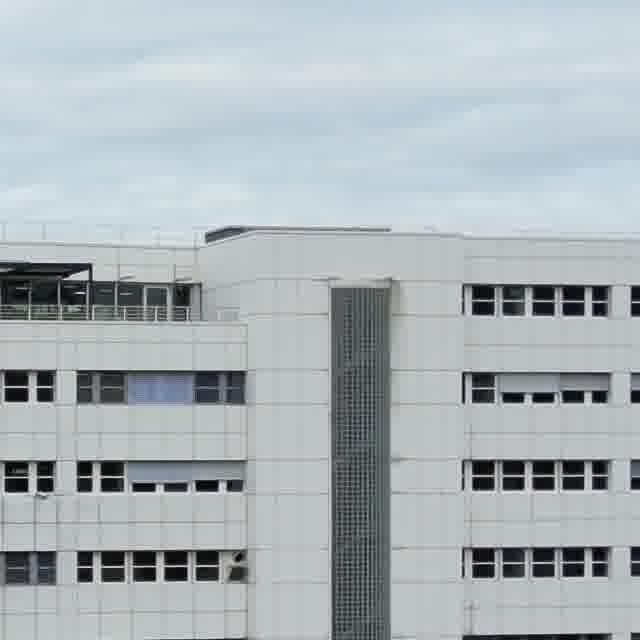Drohne: (36, 492, 47, 498)
